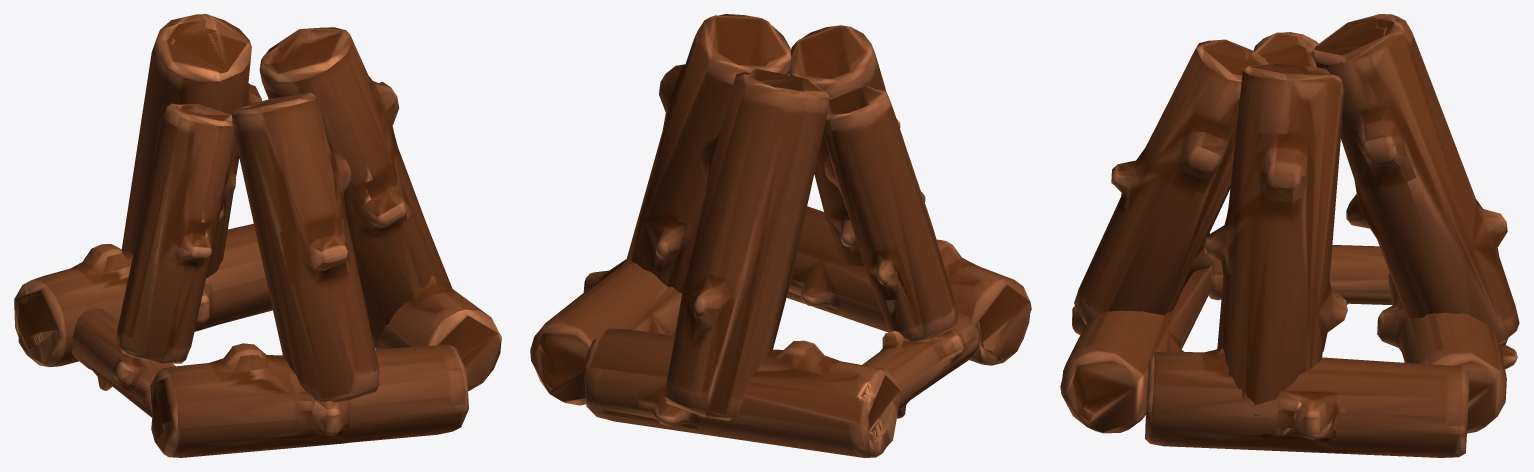
The model's file is firewoodfinal.fbx.
3 renders of one model, left to right at view 1: azimuth 30°, elevation 25°; view 2: azimuth 150°, elevation 25°; view 3: azimuth 270°, elevation 25°, orthographic. The views are drawn at different scales.
Parts seen in each view (by area): view 1: Cylinder.007; view 2: Cylinder.007; view 3: Cylinder.007.
Boxes of the visible parts, x1,y1,x2,y2 form: Cylinder.007: [14, 14, 501, 457]; Cylinder.007: [530, 14, 1031, 457]; Cylinder.007: [1060, 14, 1519, 457].
Bounding box in the file's own units: 347 × 314 × 373.
Materials: 1 (1 with a texture image).
